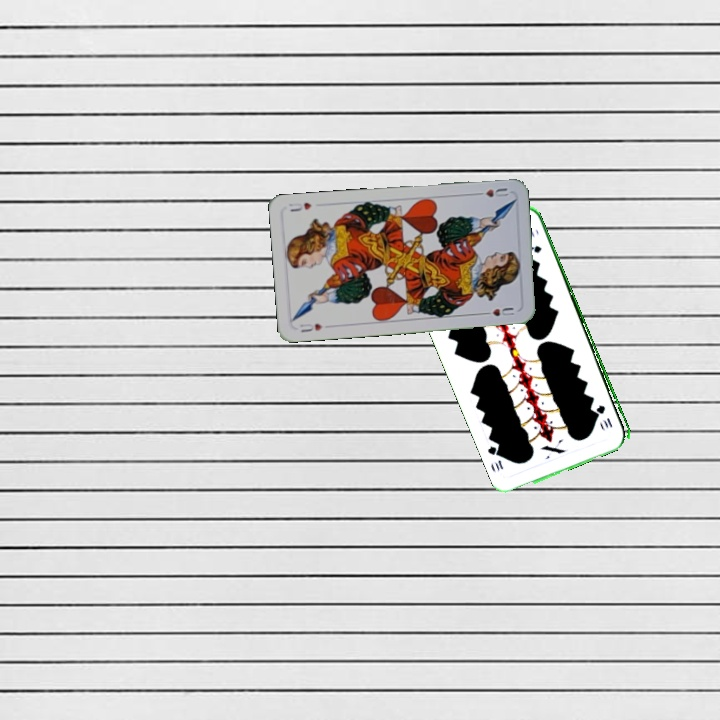G10: (594, 401, 615, 430)
HU: (471, 184, 511, 200), (296, 319, 325, 335)
